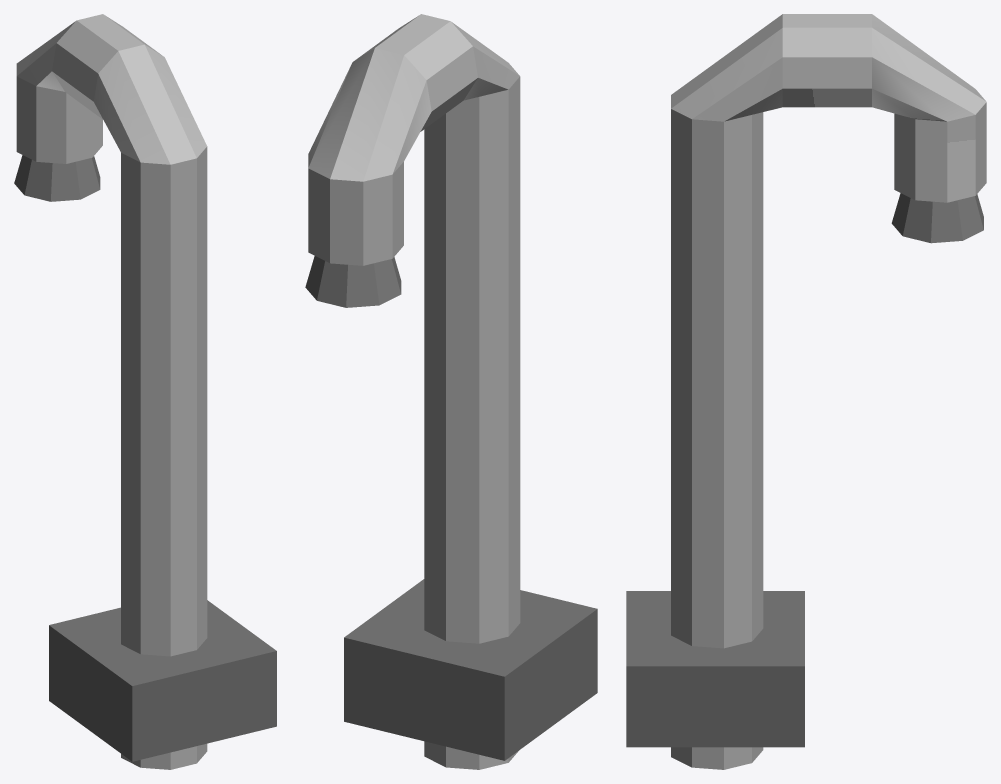
File: lamp_post.obj
3 views of the same model, side by side, from view 1: azimuth 30°, elevation 25°; view 2: azimuth 150°, elevation 25°; view 3: azimuth 270°, elevation 25° (orthographic). The views are drawn at different scales.
Parts seen in each view (by area): view 1: cylinder_selection; view 2: cylinder_selection; view 3: cylinder_selection.
Boxes of the visible parts, x1,y1,x2,y2 form: cylinder_selection: [14, 14, 276, 769]; cylinder_selection: [305, 14, 597, 769]; cylinder_selection: [626, 14, 986, 769].
Bounding box in the file's own units: 0.25 × 1.12 × 0.504.
